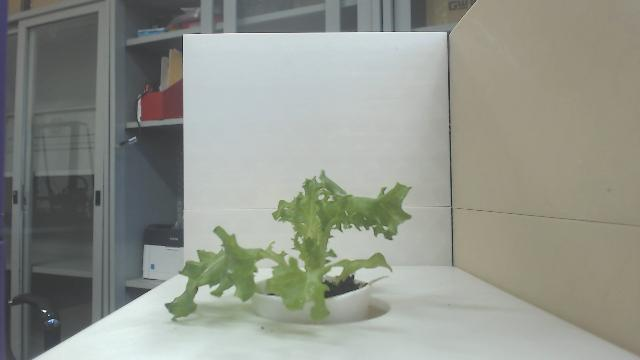Vegetative Stage: (162, 168, 414, 322)
